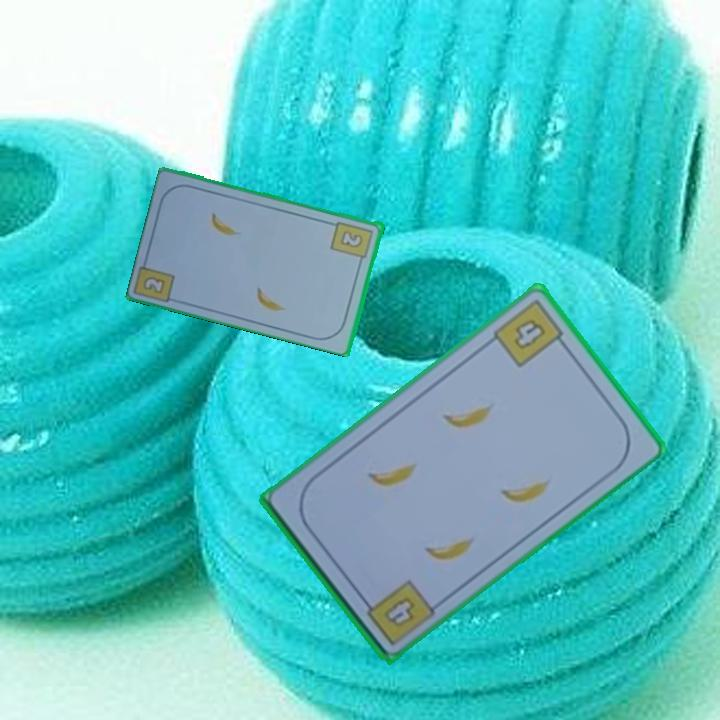2b: (328, 218, 376, 267), (140, 272, 168, 297)
4b: (489, 294, 571, 370), (379, 592, 419, 630)
